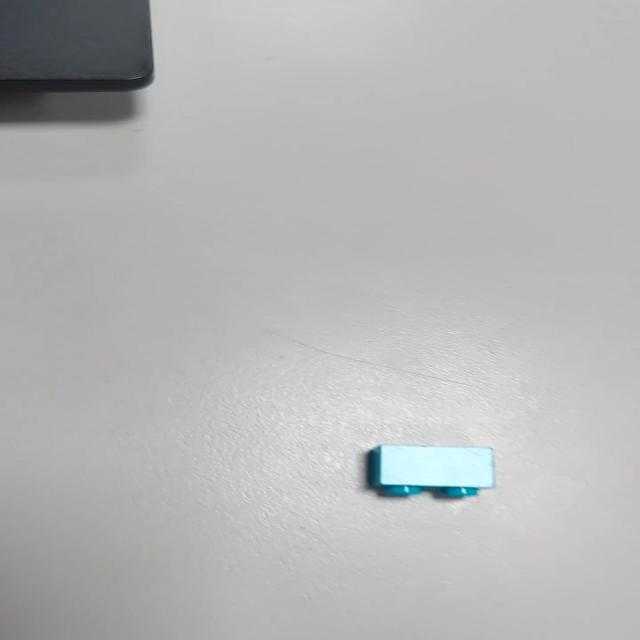C2x1x1: (365, 444, 495, 498)
